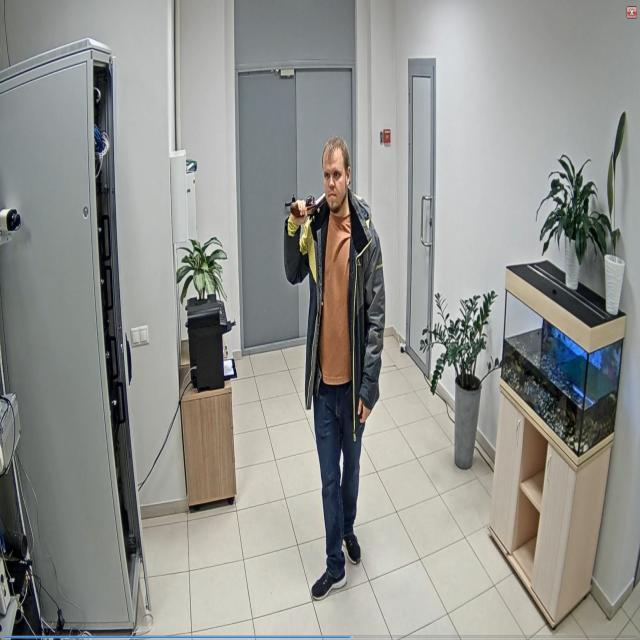-Gun: (291, 192, 326, 222)
